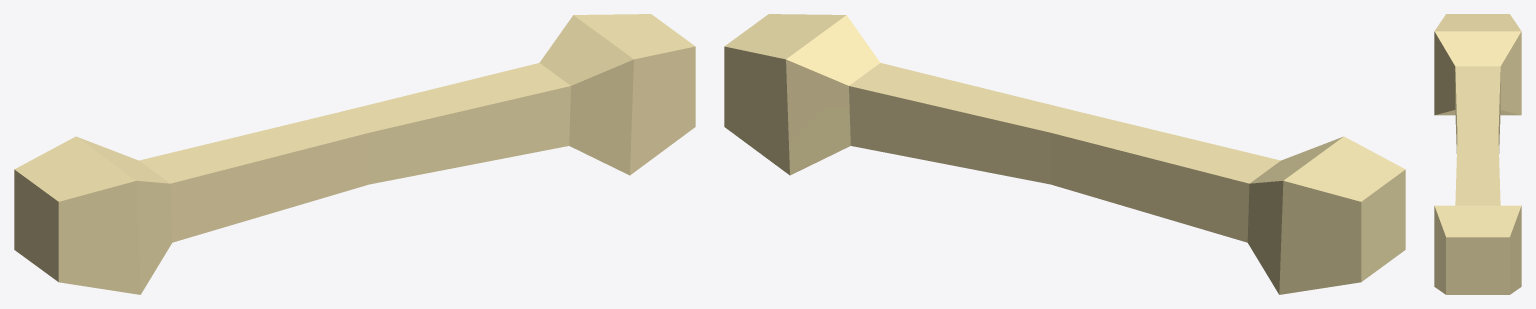
The model's file is bone.glb.
3 views of the same model, side by side, from view 1: azimuth 30°, elevation 25°; view 2: azimuth 150°, elevation 25°; view 3: azimuth 270°, elevation 25° (orthographic). The views are drawn at different scales.
Parts seen in each view (by area): view 1: bone; view 2: bone; view 3: bone.
Boxes of the visible parts, x1,y1,x2,y2 form: bone: (14,14,695,294); bone: (724,14,1405,294); bone: (1434,14,1521,294).
Bounding box in the file's own units: 2 × 0.3457 × 0.3298.
